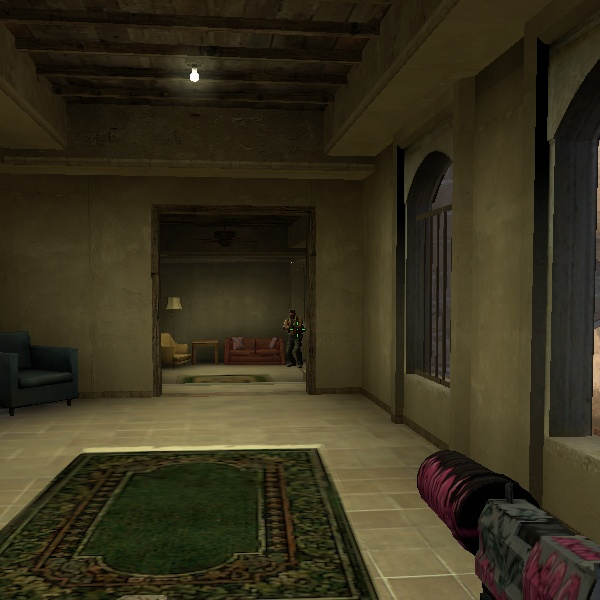t_body: (277, 306, 306, 366)
